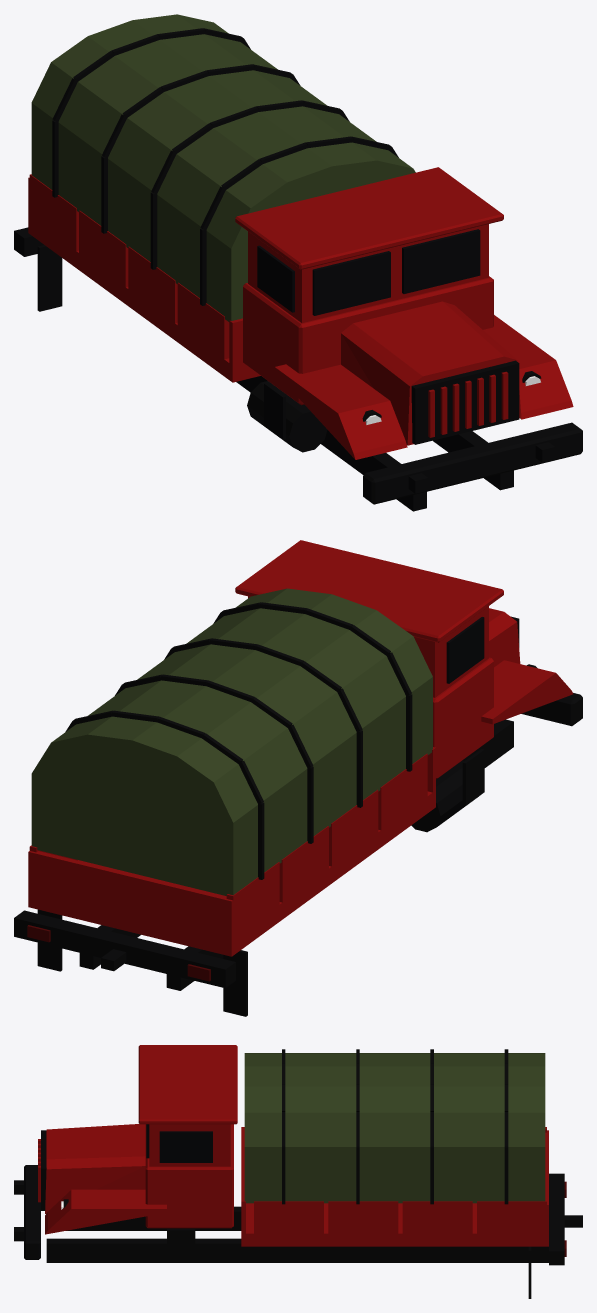
File: Army Truck.obj
3 renders of one model, top to bottom at view 1: azimuth 30°, elevation 25°; view 2: azimuth 150°, elevation 25°; view 3: azimuth 270°, elevation 25°, orthographic. The views are drawn at different scales.
Parts seen in each view (by area): view 1: Body, Canvas, Trim, Glass; view 2: Canvas, Body, Trim, Glass, Taillights; view 3: Canvas, Body, Trim, Glass.
Boxes of the visible parts, x1,y1,x2,y2 form: Body: (28,167,573,459); Canvas: (31,14,415,321); Trim: (14,28,582,511); Glass: (257,229,480,315); Canvas: (31,588,432,895); Body: (28,540,573,956); Trim: (14,602,582,1016); Glass: (446,617,484,683); Taillights: (27,925,210,981); Canvas: (244,1053,545,1203); Body: (38,1045,548,1246); Trim: (14,1049,582,1298); Glass: (146,1124,212,1162).
Size of the model in its own units: 2.68 by 3.08 by 8.04.
